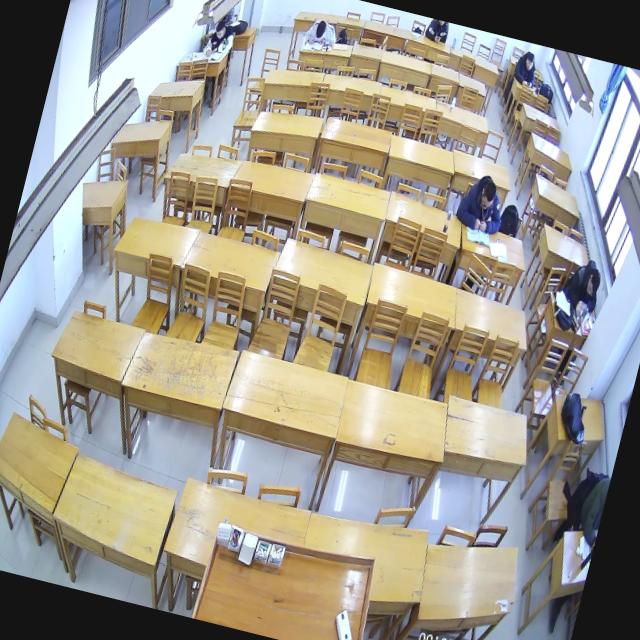bow: (452, 169, 511, 236), (302, 16, 338, 49)
down: (478, 179, 498, 211), (584, 268, 603, 298), (314, 18, 328, 40), (214, 19, 226, 39)
lookup: (523, 52, 536, 72)
sit: (562, 255, 606, 318), (202, 18, 238, 62), (511, 49, 541, 88)
